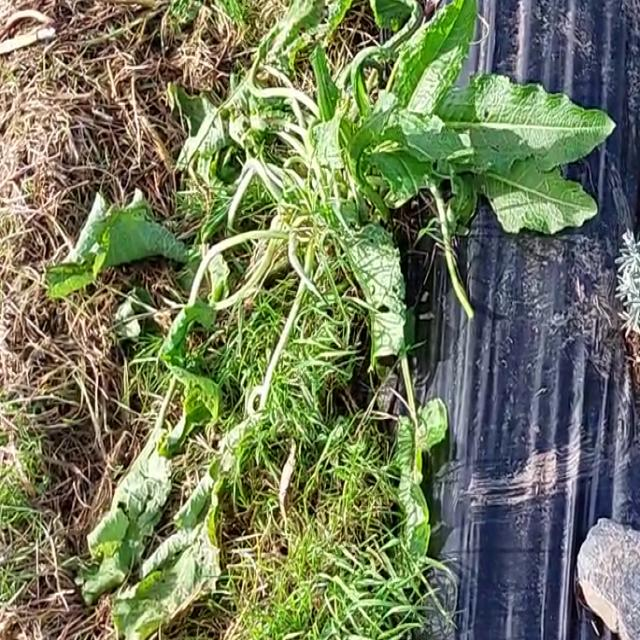organic waste: (41, 0, 630, 640)
